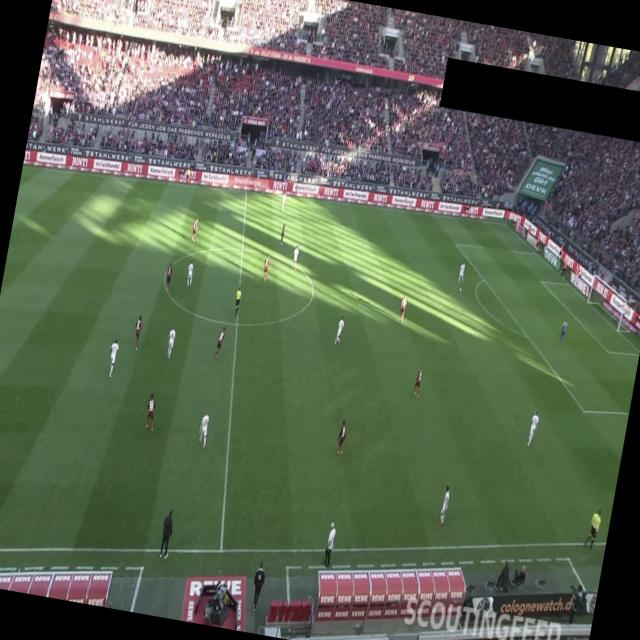ball: (458, 287, 462, 292)
goalkeeper: (558, 316, 570, 344)
player: (142, 392, 160, 432), (196, 409, 212, 449), (437, 483, 451, 528), (105, 337, 120, 378), (526, 408, 540, 448), (334, 419, 348, 455), (130, 314, 143, 351), (164, 324, 177, 360), (214, 325, 226, 359), (412, 366, 424, 398), (334, 314, 346, 345), (397, 293, 409, 323), (184, 260, 195, 288), (163, 262, 173, 292), (260, 255, 270, 282), (290, 243, 300, 270), (190, 217, 200, 243), (457, 261, 466, 285), (278, 222, 286, 246), (279, 192, 287, 212)
referee: (583, 506, 603, 550), (232, 284, 243, 316), (184, 167, 191, 185)
